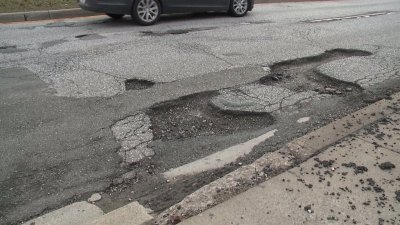pothole: (253, 47, 378, 100), (130, 96, 268, 140), (117, 69, 157, 93), (137, 27, 212, 37)
